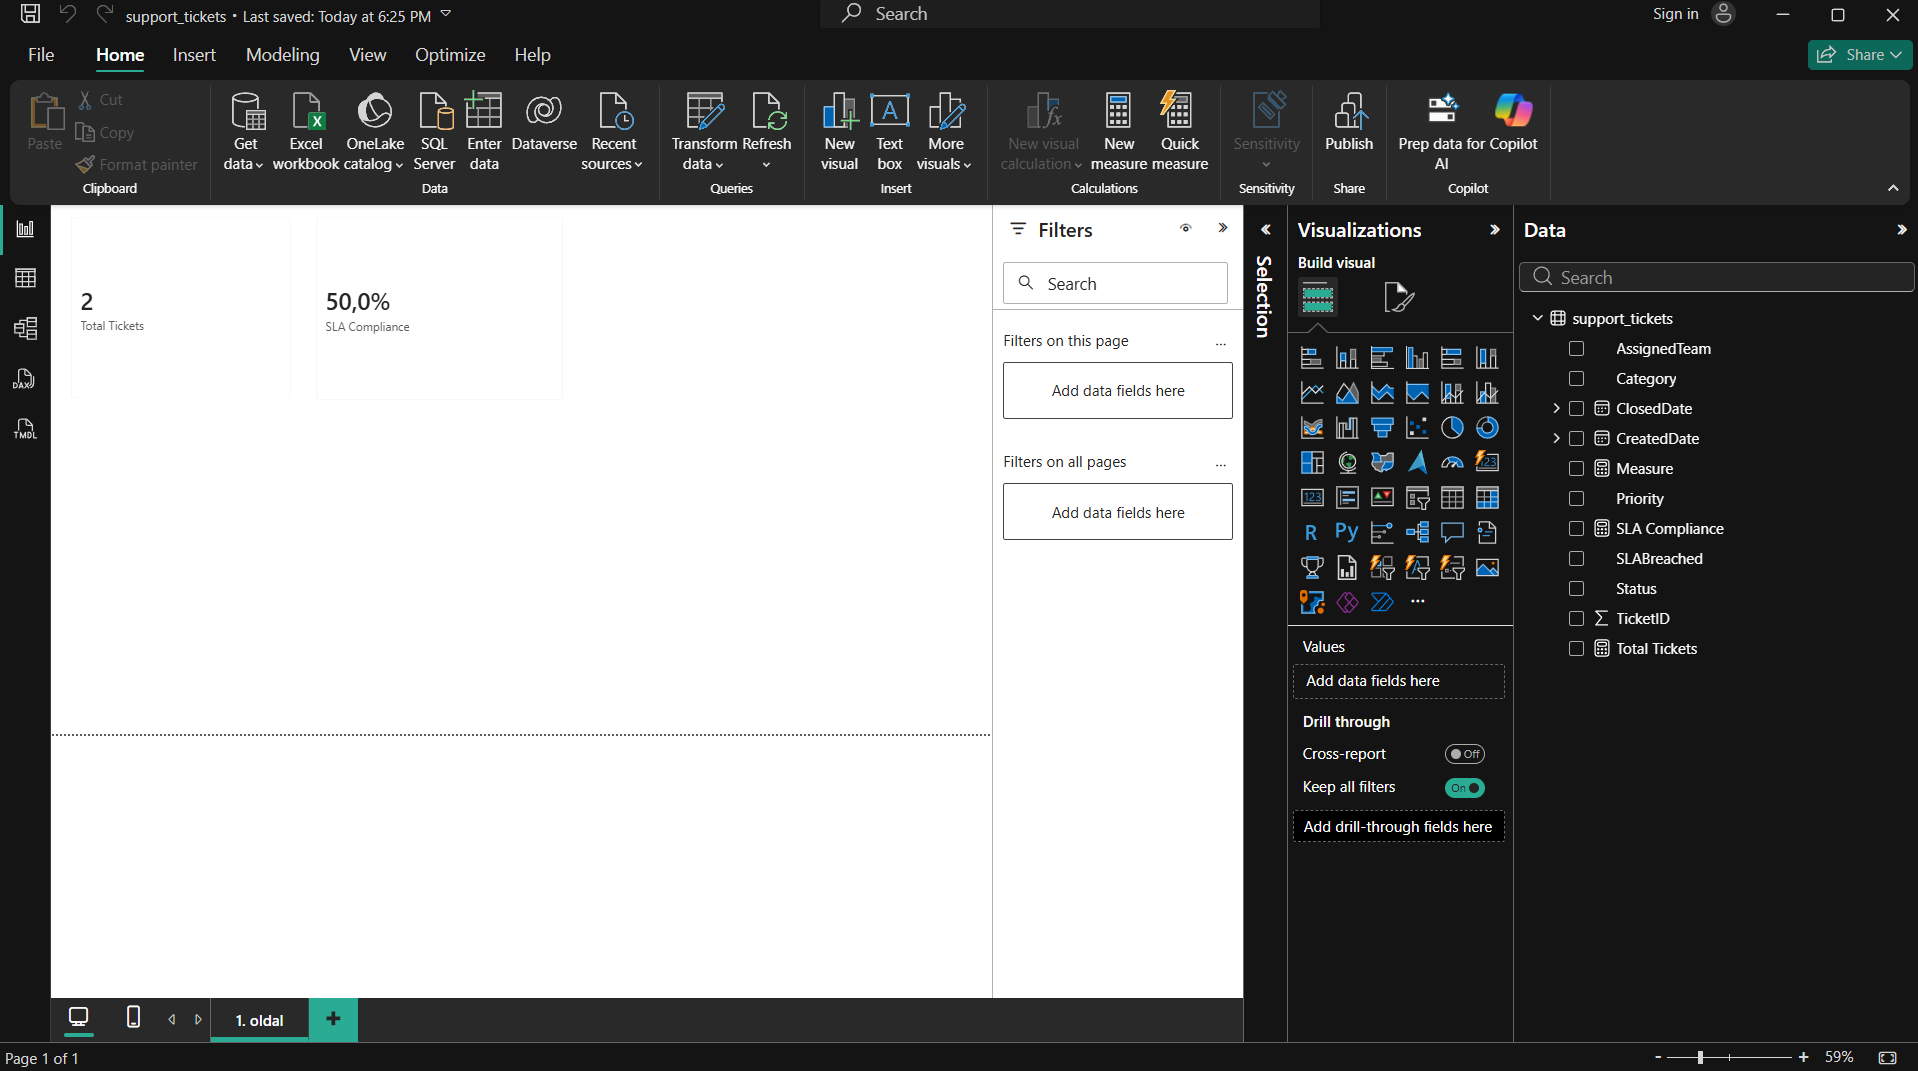

This screenshot's page, from the dashboard's own definition file:
{"tool":"powerbi","page":{"name":"1. oldal","canvas":[1280,720],"ordinal":0},"visuals":[{"type":"cardVisual","fields":{"Data":["support_tickets.Total_Tickets"]},"box":[10.2,0,333.2,280.5],"z":0},{"type":"cardVisual","fields":{"Data":["support_tickets.SLA_Compliance_%"]},"box":[343.4,0,370.6,282.2],"z":1}]}

Visuals, with their boxes on the page's 1280x720 design canvas (x1, y1, x2, y2). These are canvas units, not pixel positions in the 1918x1071 screenshot, which may show the page scaled, cropped or inside an application window:
cardVisual - support_tickets.Total_Tickets: rect(10, 0, 343, 280)
cardVisual - support_tickets.SLA_Compliance_%: rect(343, 0, 714, 282)
